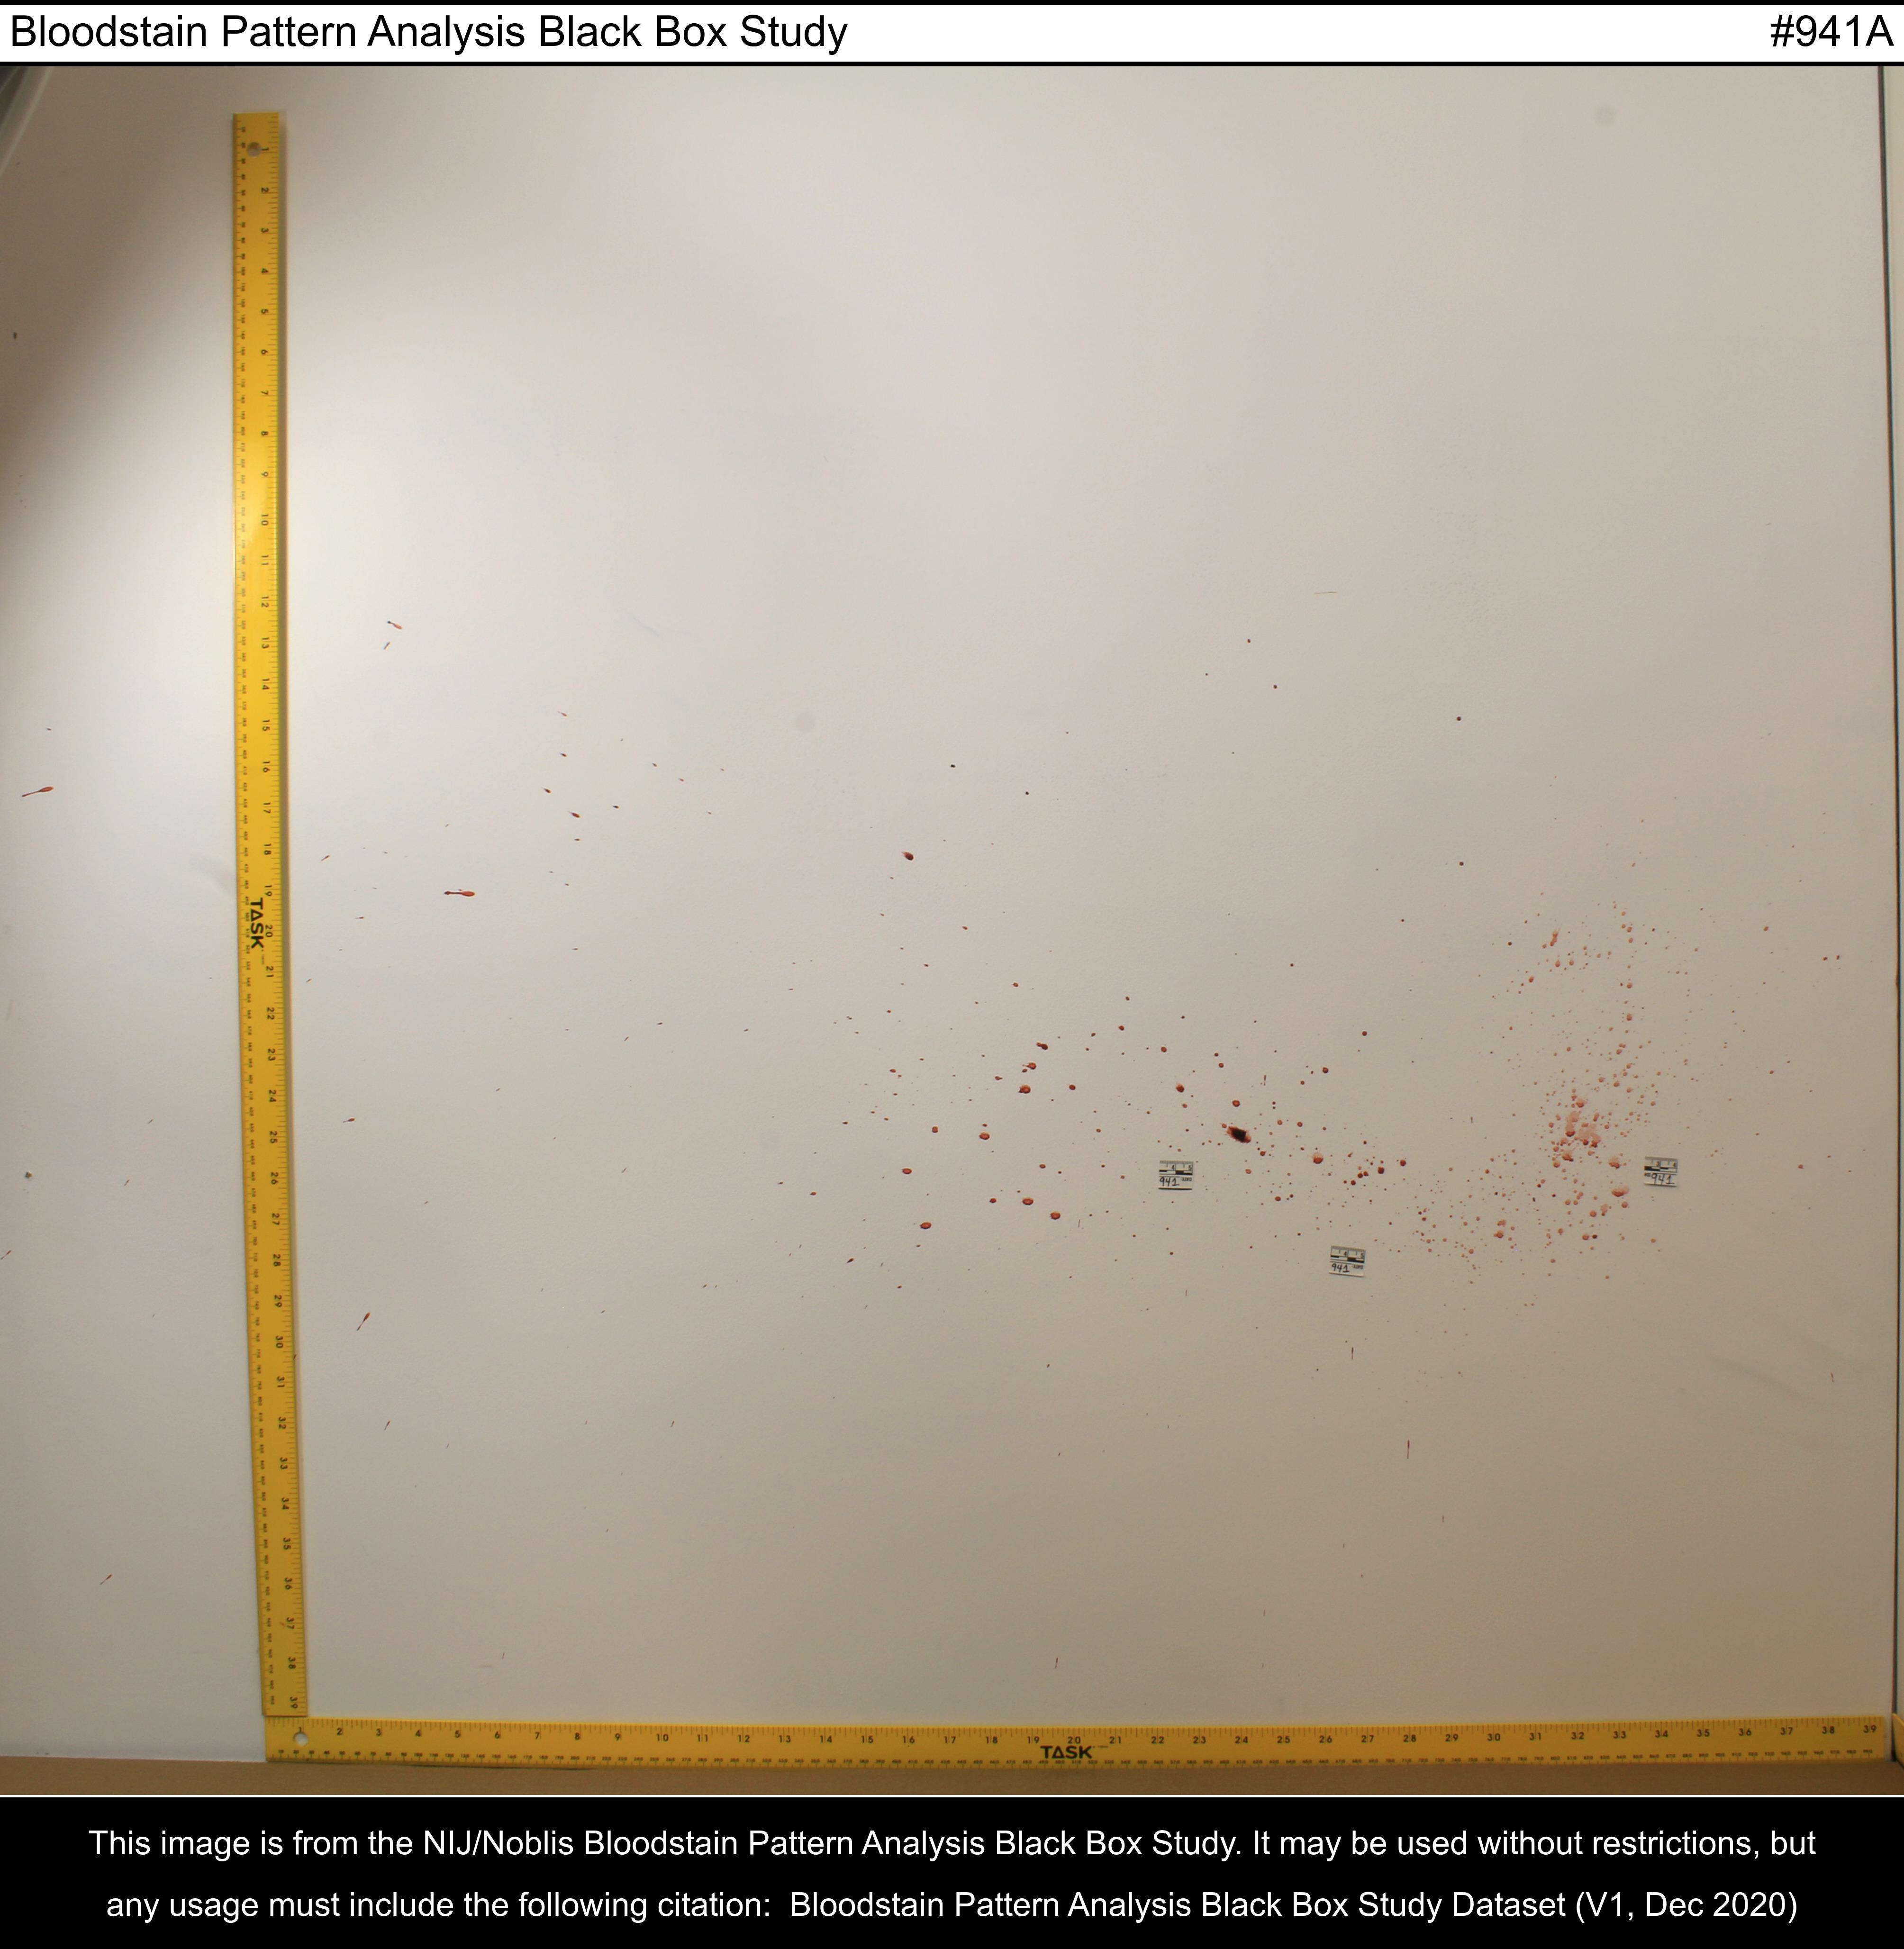Impact: (406, 757, 1878, 1346)
